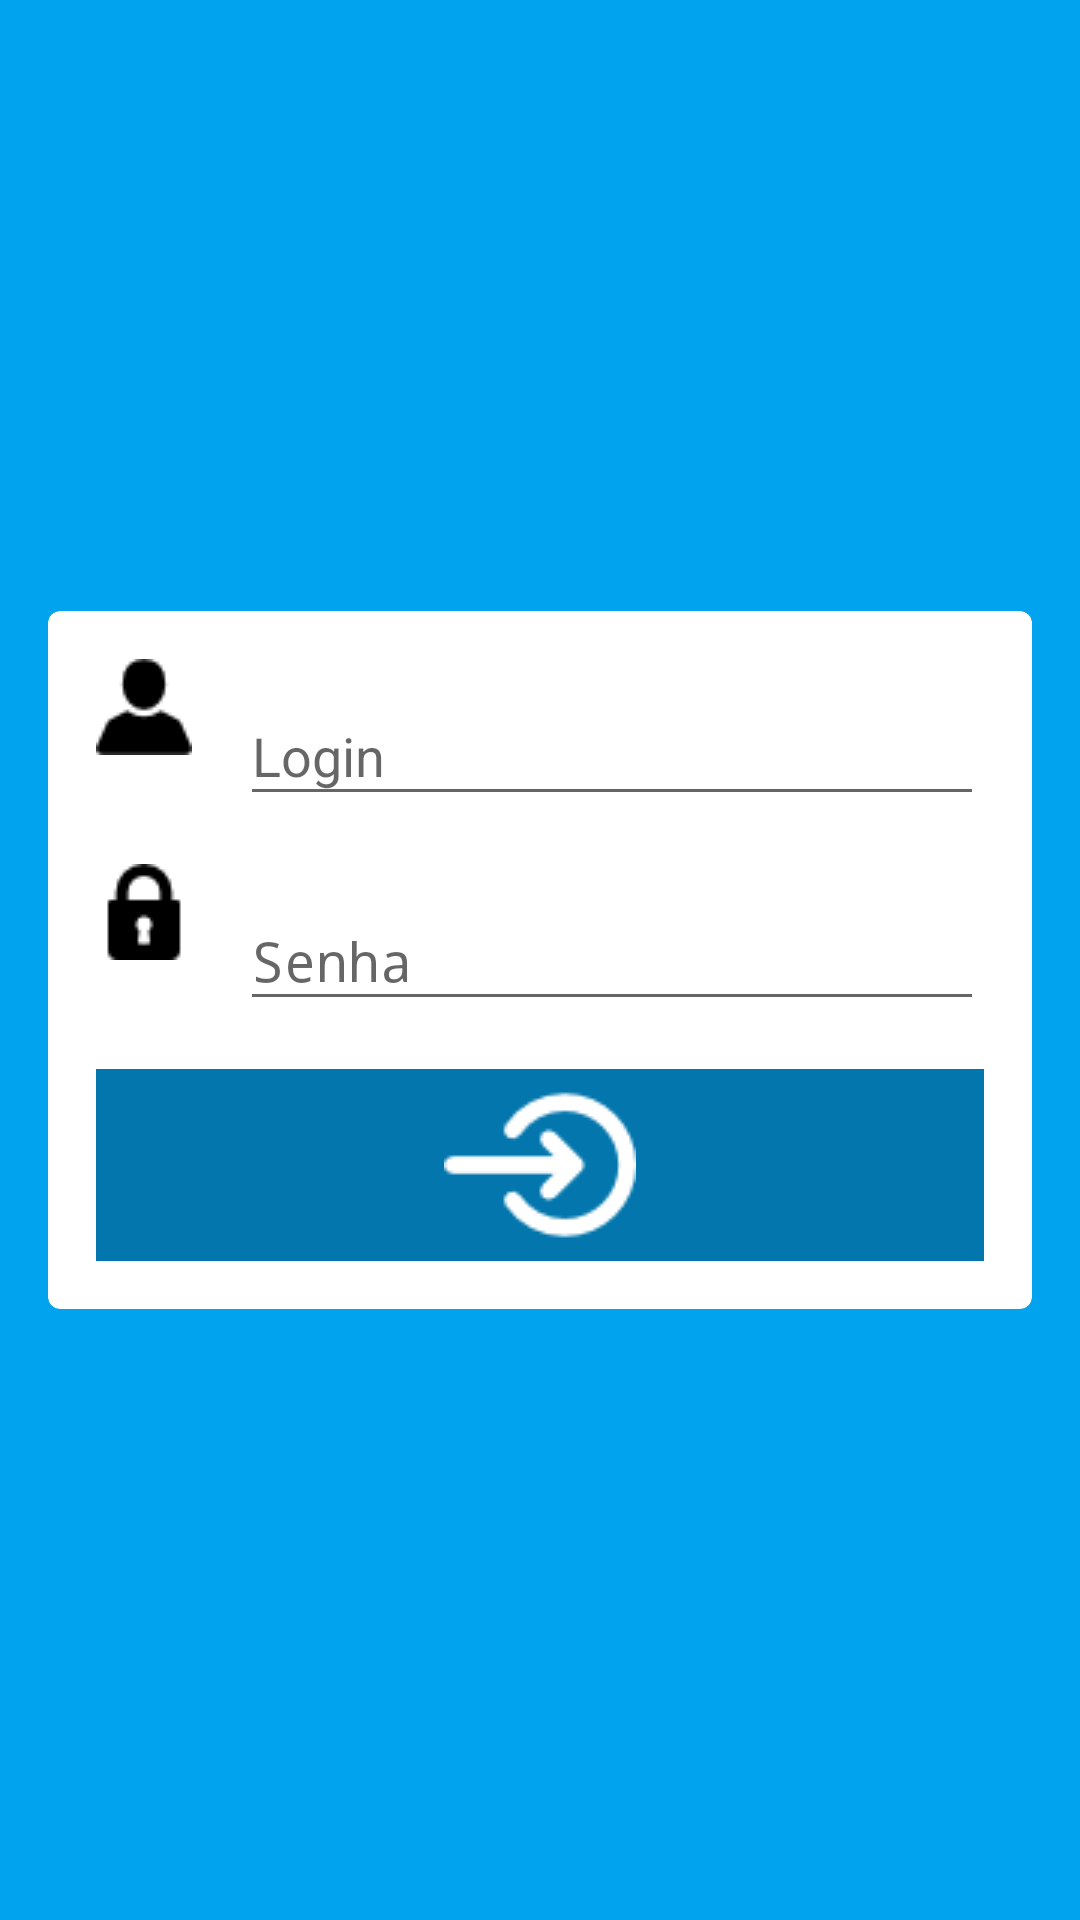

Named icons in this screenshot (1080×1920) and their bounding boxes, (x1, y1, x2, y2):
lock: (107, 864, 181, 960)
user: (96, 659, 192, 755)
